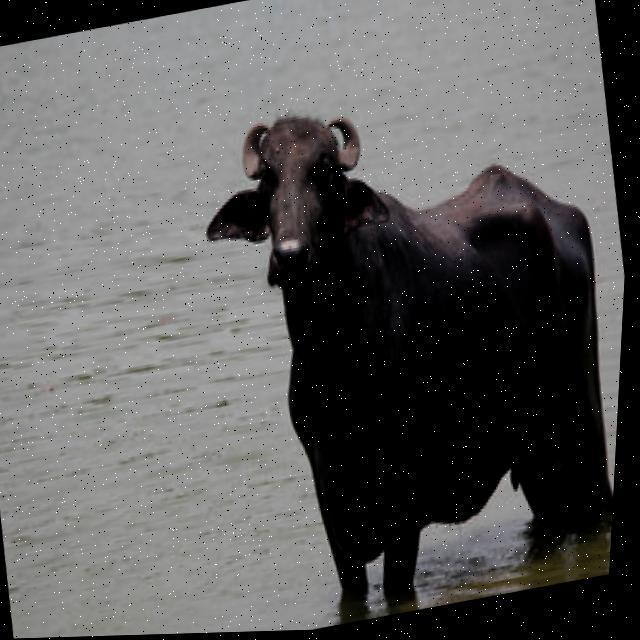Buffalo: (165, 51, 636, 627)
